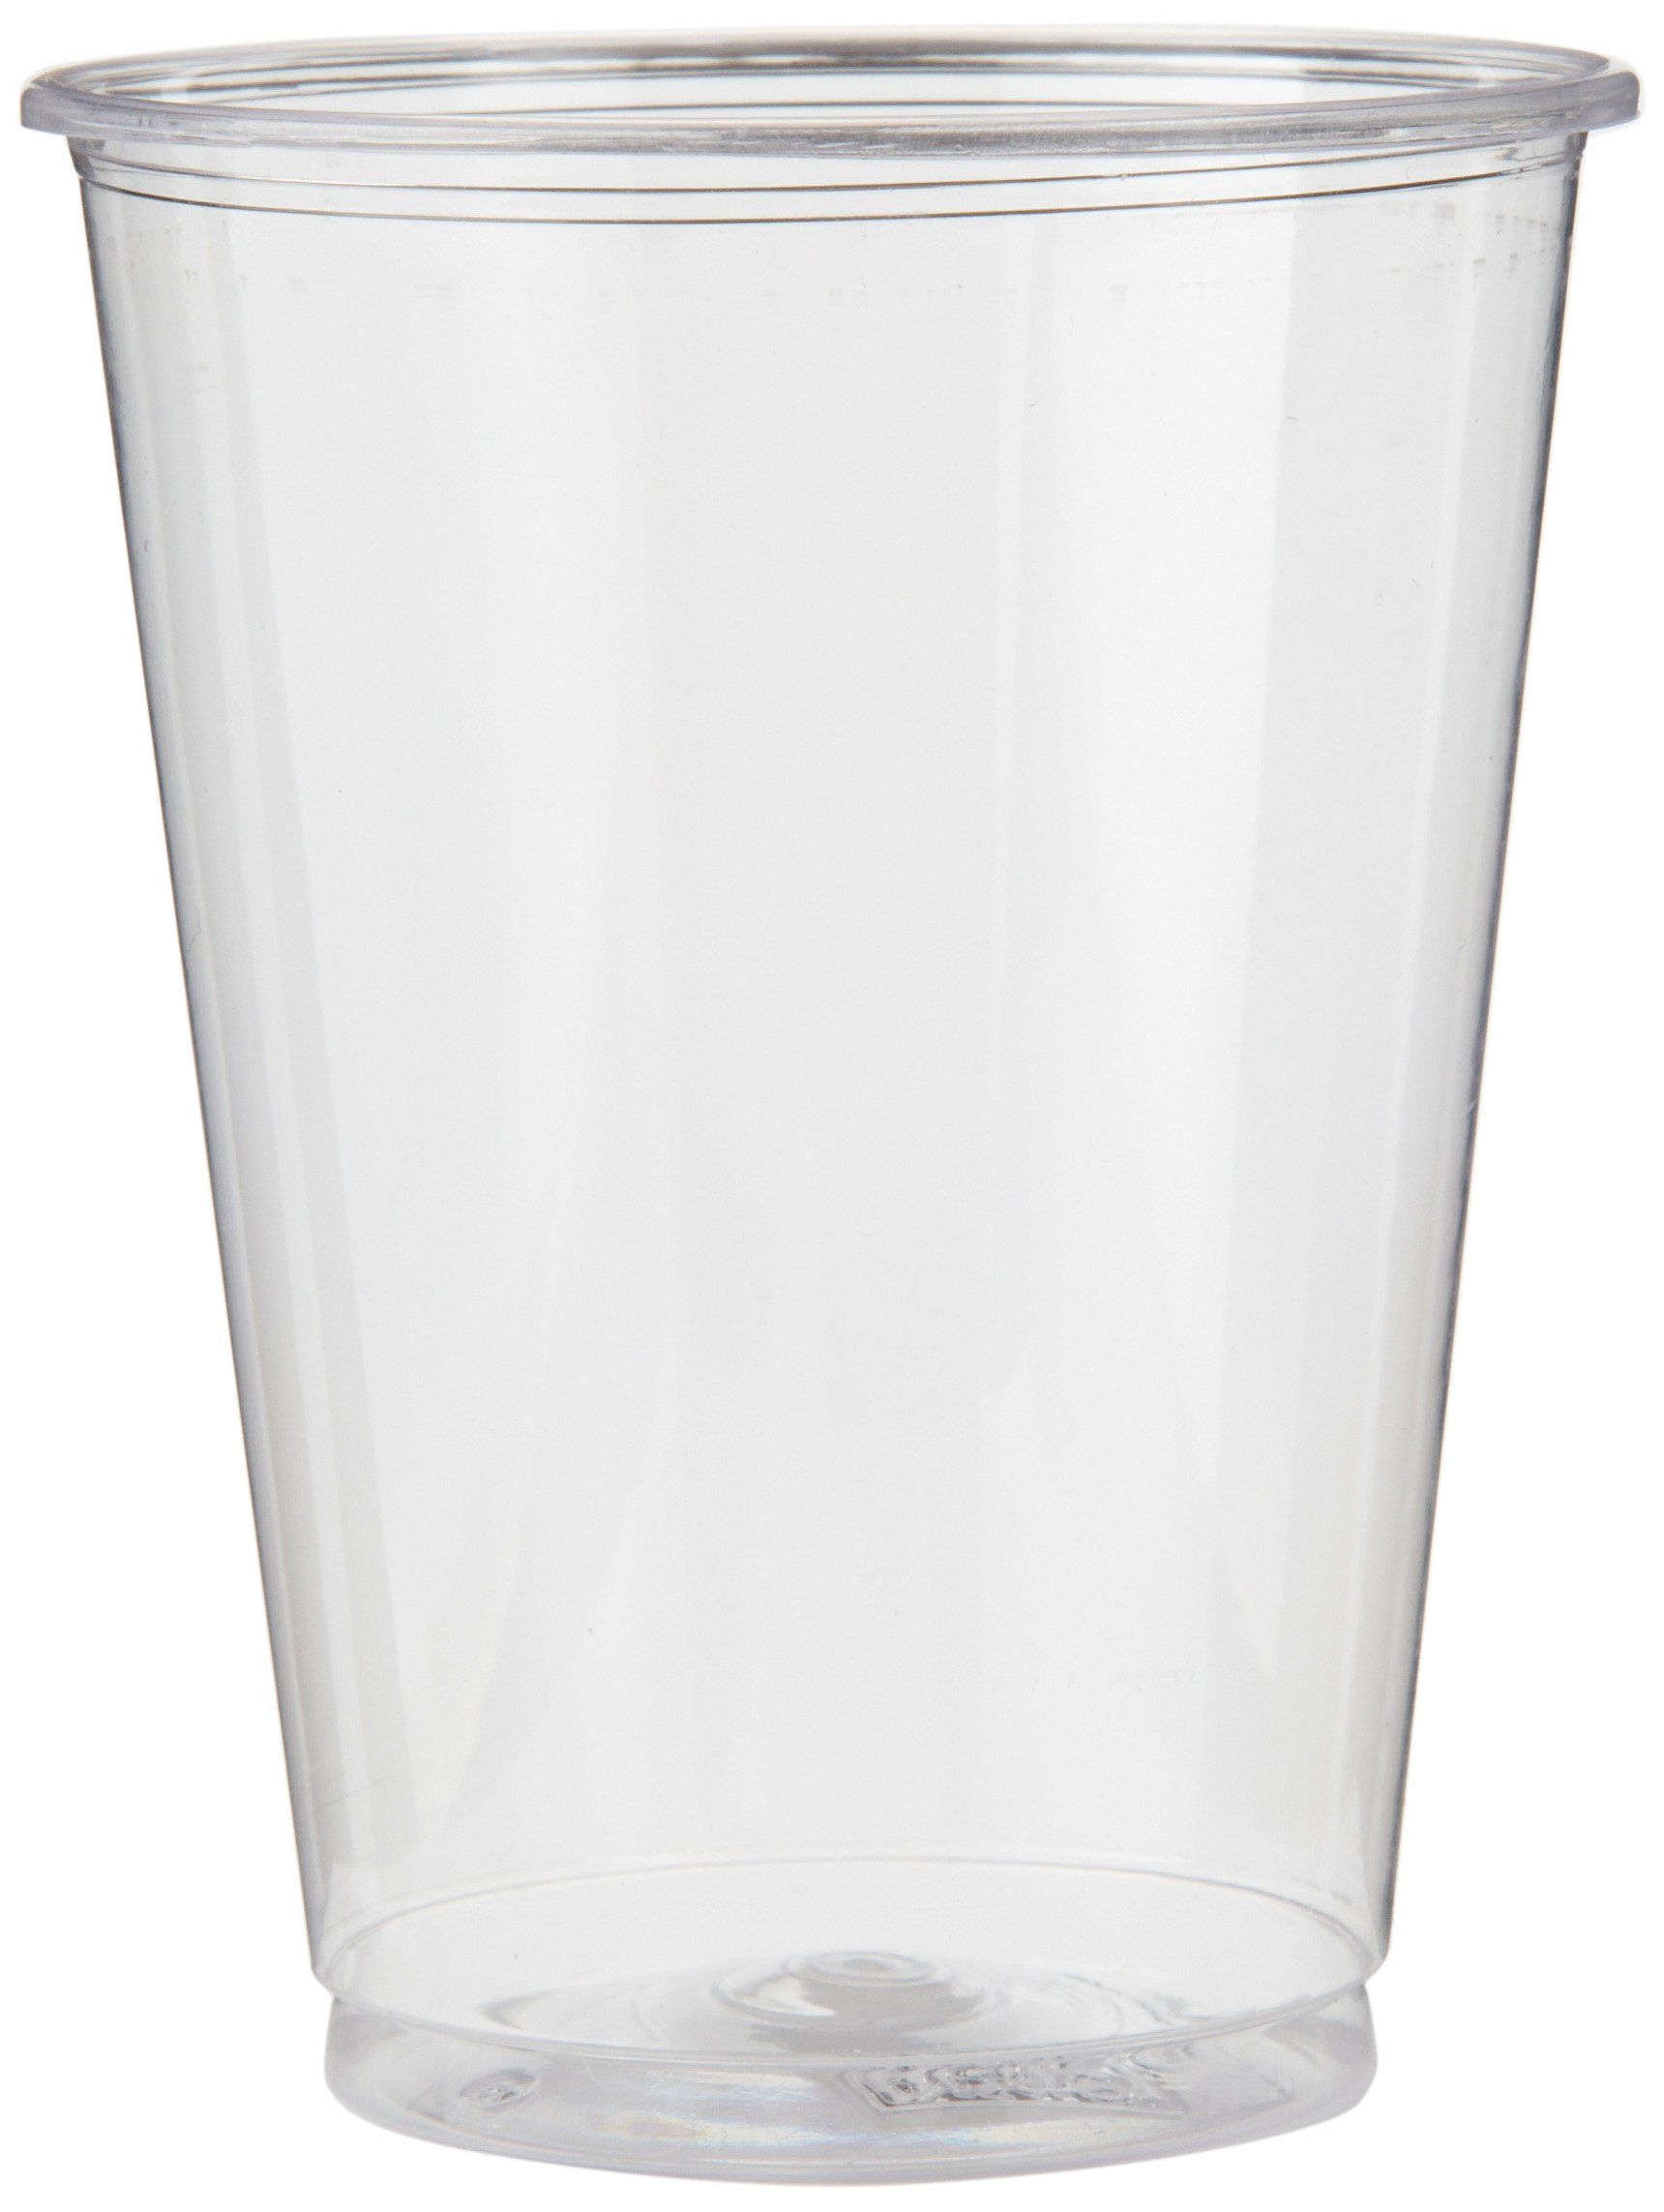plastic_glass: (3, 14, 1664, 2200)
